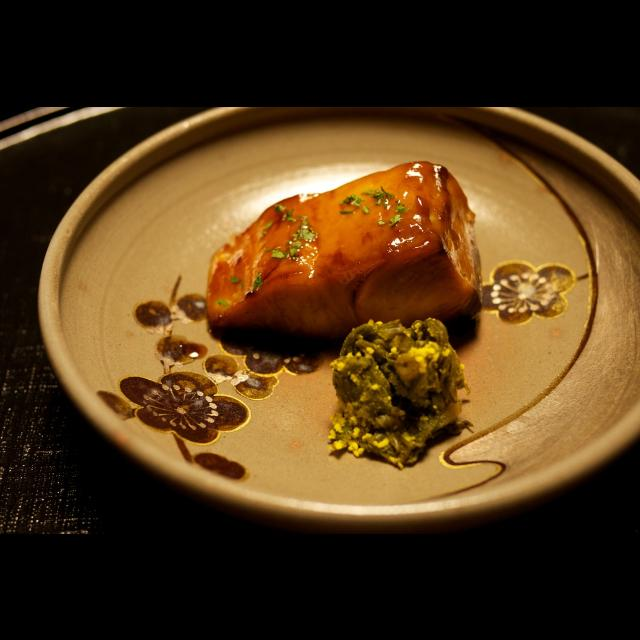Flower: (492, 251, 574, 323)
